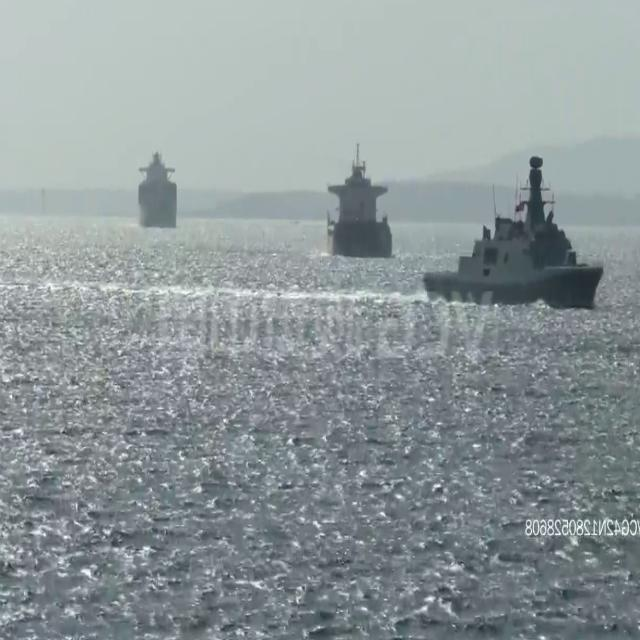houseboat: (423, 153, 608, 304), (326, 143, 397, 259)
navalvessels: (136, 144, 179, 225)
